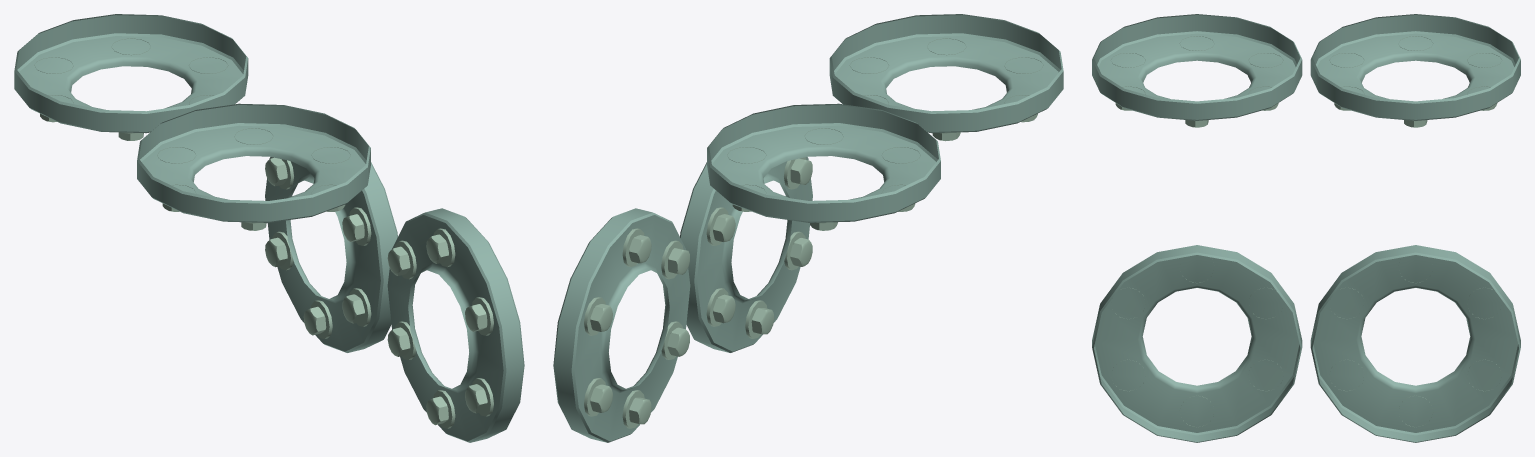
File: PipeComplexLarge_A3_06_End.fbx
The picture shows the model from 3 angles, left to right: view 1: azimuth 30°, elevation 25°; view 2: azimuth 150°, elevation 25°; view 3: azimuth 270°, elevation 25°; orthographic projection. The views are drawn at different scales.
Visible parts, largest first — view 1: PipeComplexLarge_A3_06_End.001; view 2: PipeComplexLarge_A3_06_End.001; view 3: PipeComplexLarge_A3_06_End.001.
Part boxes in pixels (box(x1,y1,x2,y2)): PipeComplexLarge_A3_06_End.001: box(14, 14, 524, 442); PipeComplexLarge_A3_06_End.001: box(553, 14, 1063, 442); PipeComplexLarge_A3_06_End.001: box(1092, 14, 1520, 442).
Bounding box in the file's own units: 0.5927 × 0.5927 × 0.7846.
